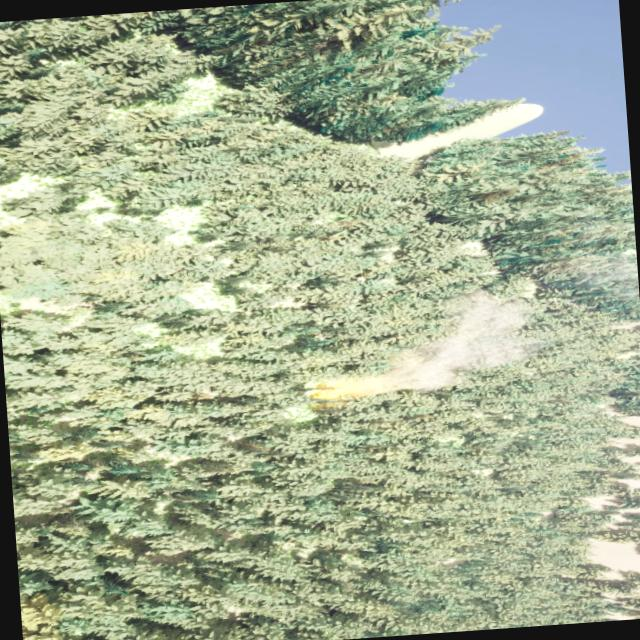fire: (310, 382, 360, 411)
smoke: (352, 281, 544, 400)
